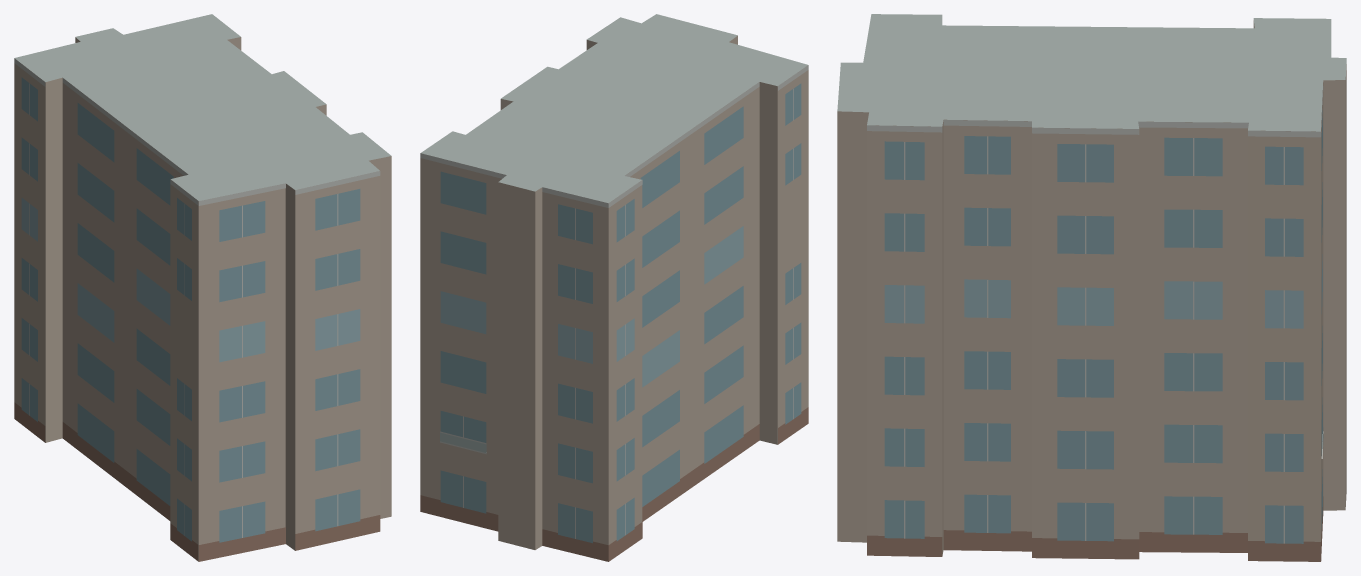
Rendered from survey-upis-32773715.glb.
3 views of the same model, side by side, from view 1: azimuth 30°, elevation 25°; view 2: azimuth 150°, elevation 25°; view 3: azimuth 270°, elevation 25° (orthographic). The views are drawn at different scales.
Visible parts, largest first — view 1: survey-upis-32773715.tmp; view 2: survey-upis-32773715.tmp; view 3: survey-upis-32773715.tmp.
Part boxes in pixels (bbox=[...]): survey-upis-32773715.tmp: bbox=[14, 14, 391, 561]; survey-upis-32773715.tmp: bbox=[420, 14, 808, 561]; survey-upis-32773715.tmp: bbox=[837, 14, 1346, 561].
Bounding box in the file's own units: 10.55 × 18 × 19.32.
